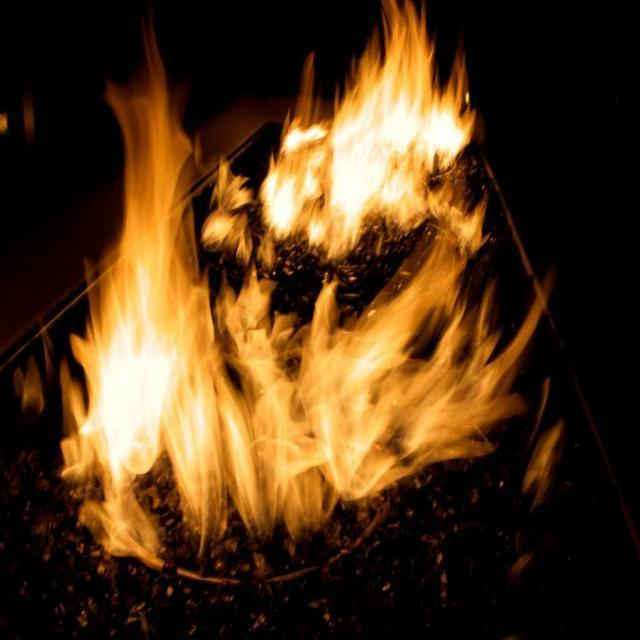Fire: (90, 83, 512, 488)
